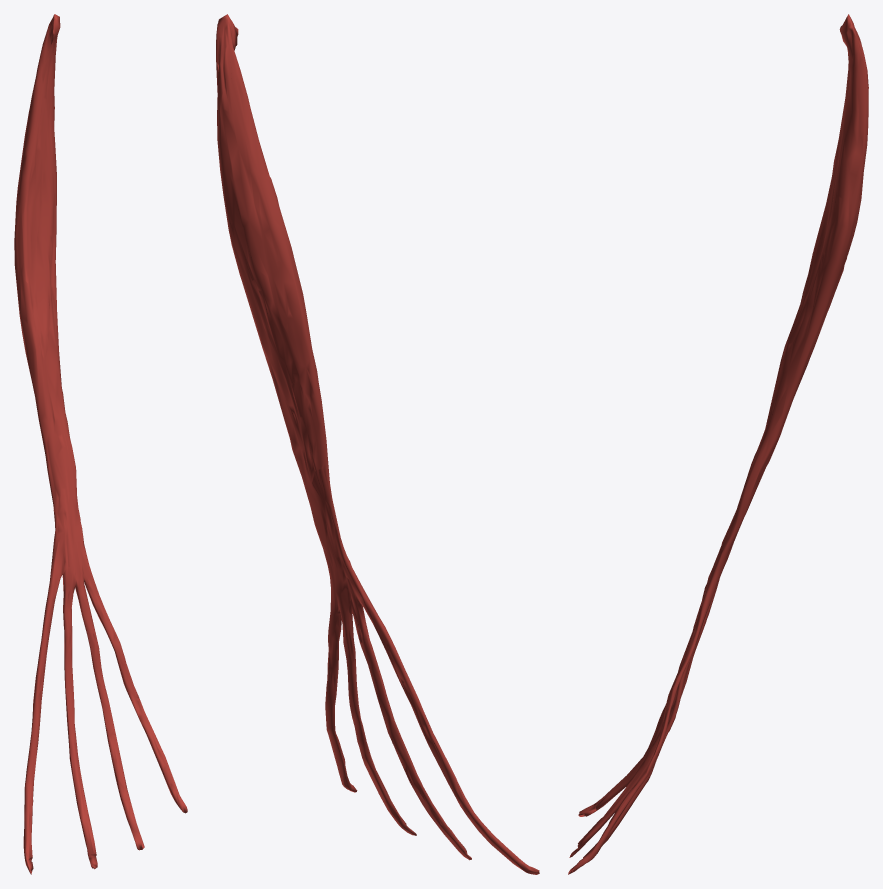
The model's file is musculos-extensor-digitorum-r.glb.
The picture shows the model from 3 angles, left to right: view 1: azimuth 30°, elevation 25°; view 2: azimuth 150°, elevation 25°; view 3: azimuth 270°, elevation 25°; orthographic projection. The views are drawn at different scales.
Parts seen in each view (by area): view 1: Extensor digitorum.r; view 2: Extensor digitorum.r; view 3: Extensor digitorum.r.
Part boxes in pixels (x1=…): Extensor digitorum.r: x1=14, y1=14, x2=187, y2=874; Extensor digitorum.r: x1=216, y1=14, x2=539, y2=874; Extensor digitorum.r: x1=568, y1=14, x2=868, y2=874.
Size of the model in its own units: 0.0852 by 0.3946 by 0.121.
